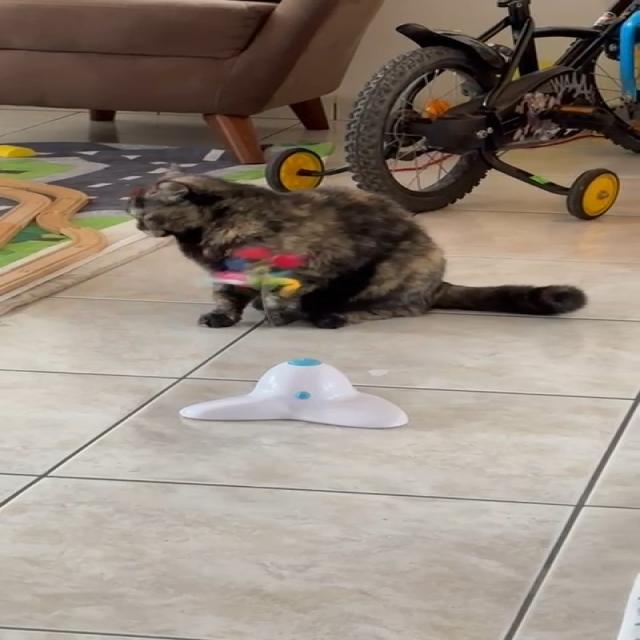authorized: (125, 162, 587, 330)
